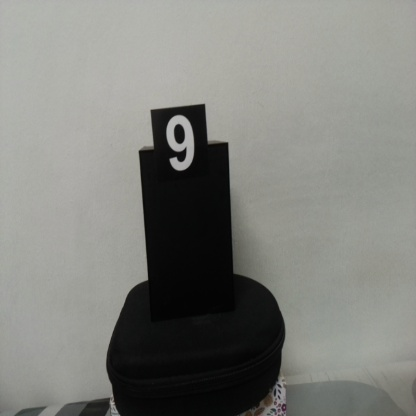id_9: (149, 110, 208, 190)
